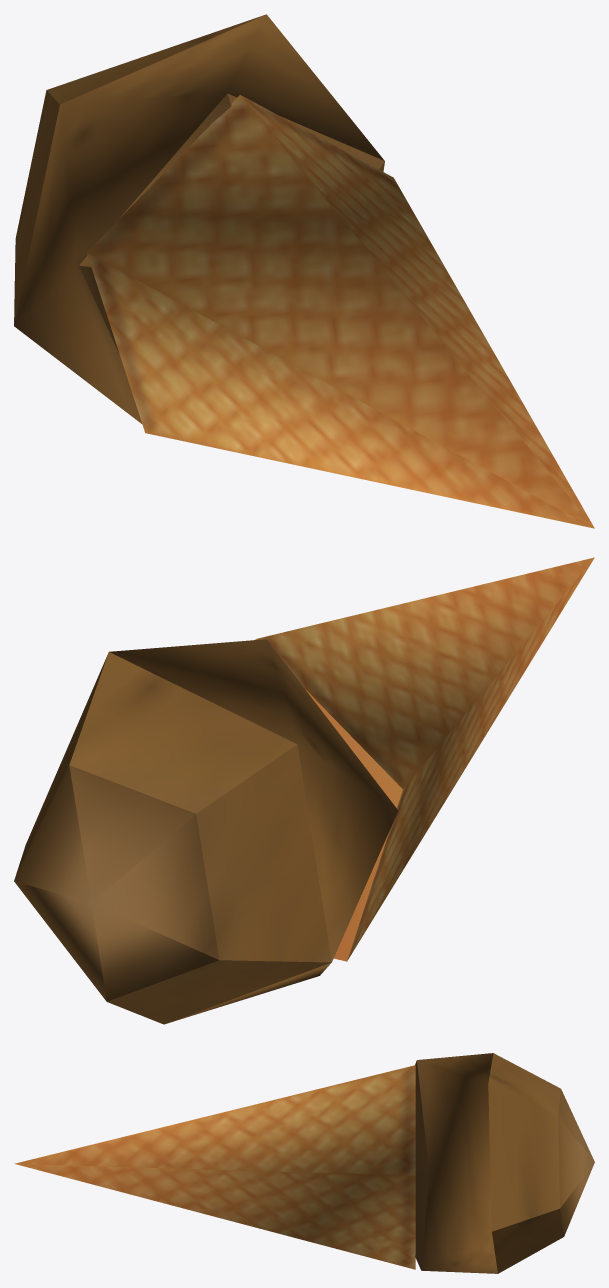
Rendered from IceCream_Cone_3.fbx.
3 renders of one model, top to bottom at view 1: azimuth 30°, elevation 25°; view 2: azimuth 150°, elevation 25°; view 3: azimuth 270°, elevation 25°, orthographic. The views are drawn at different scales.
Parts seen in each view (by area): view 1: IceCream_Cone_3; view 2: IceCream_Cone_3; view 3: IceCream_Cone_3.
Boxes of the visible parts, x1,y1,x2,y2 form: IceCream_Cone_3: (14, 14, 594, 528); IceCream_Cone_3: (14, 557, 594, 1024); IceCream_Cone_3: (14, 1053, 594, 1273).
Size of the model in its own units: 73.48 by 78.43 by 198.
